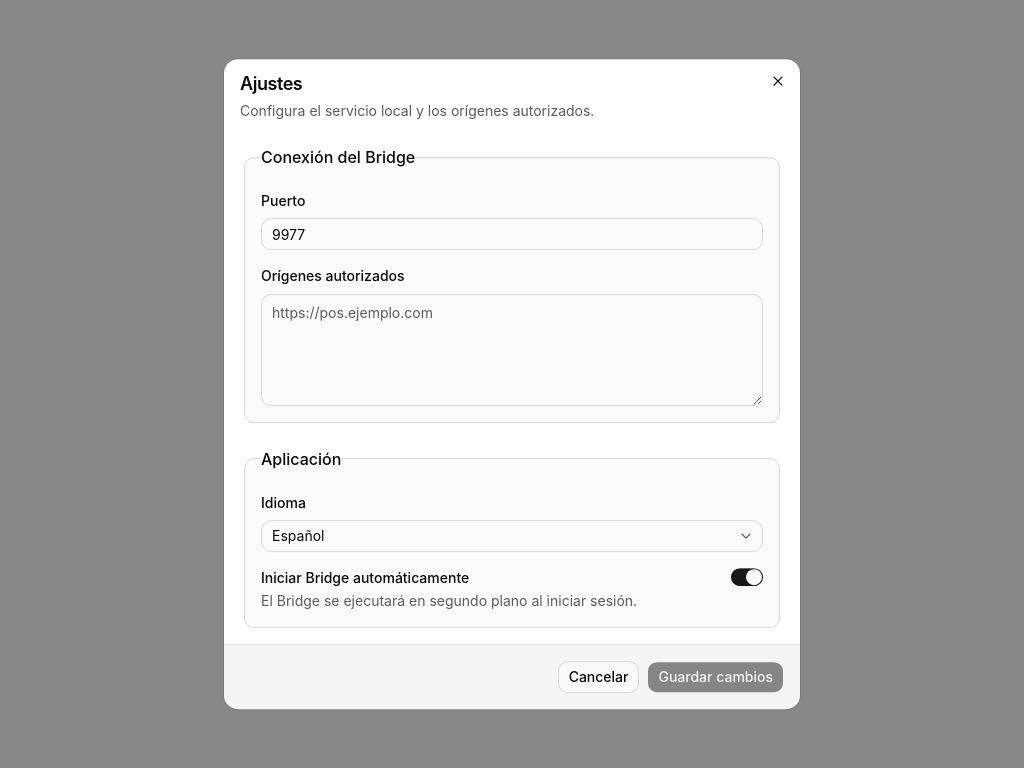
Test case: SettingsDialog › keeps saving disabled until settings are dirty
This screenshot has width=1024, height=768.
Expected: the text "Aplicación" is shown, [261,447,341,471]
Expected: the text "Conexión del Bridge" is shown, [261,145,415,169]
Replace the text in the number field showing "9977" with "9988" at x=512, y=234, box [261,218,763,250]
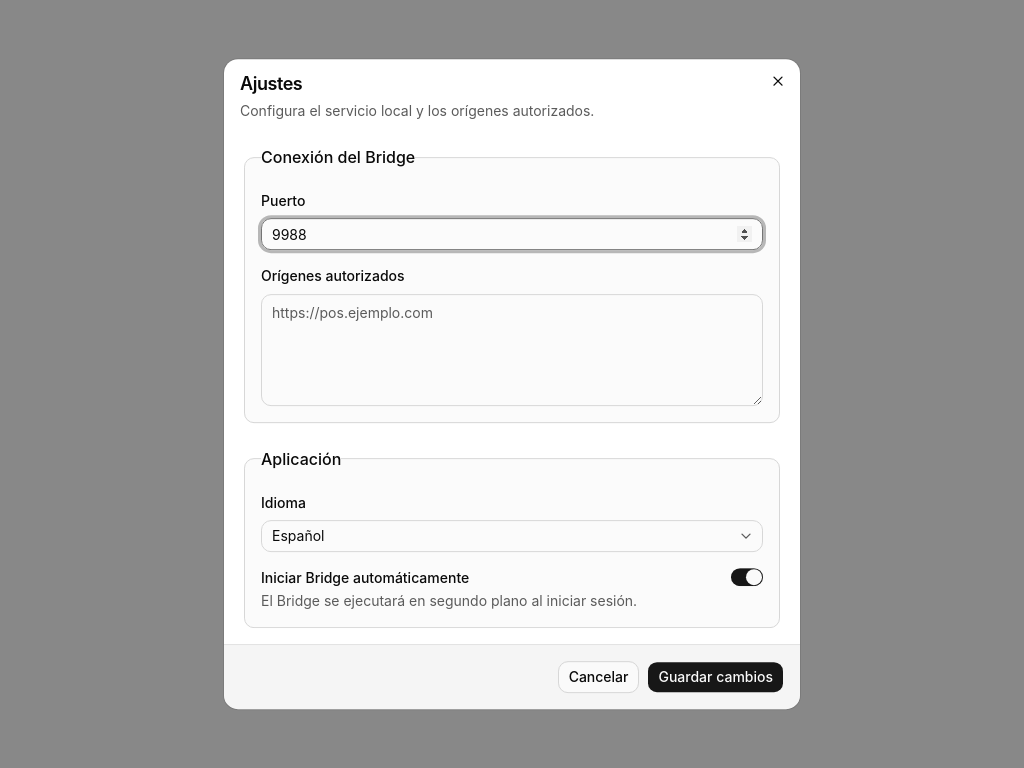
Expected: the button "Guardar cambios" is enabled, [648,661,784,693]
